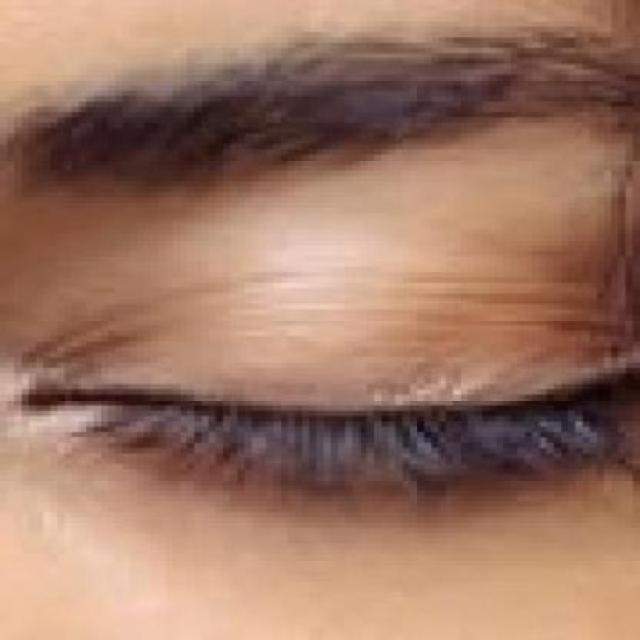drowsy: (22, 277, 632, 555)
